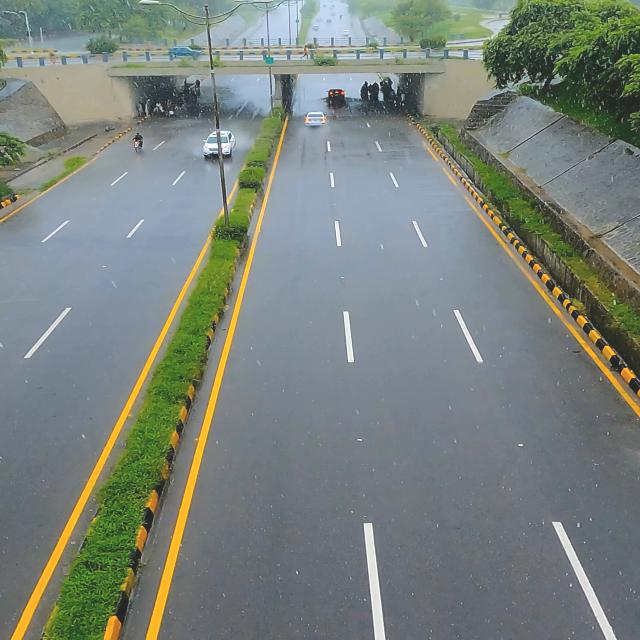Vehicle: (196, 127, 236, 161), (298, 107, 329, 131)
